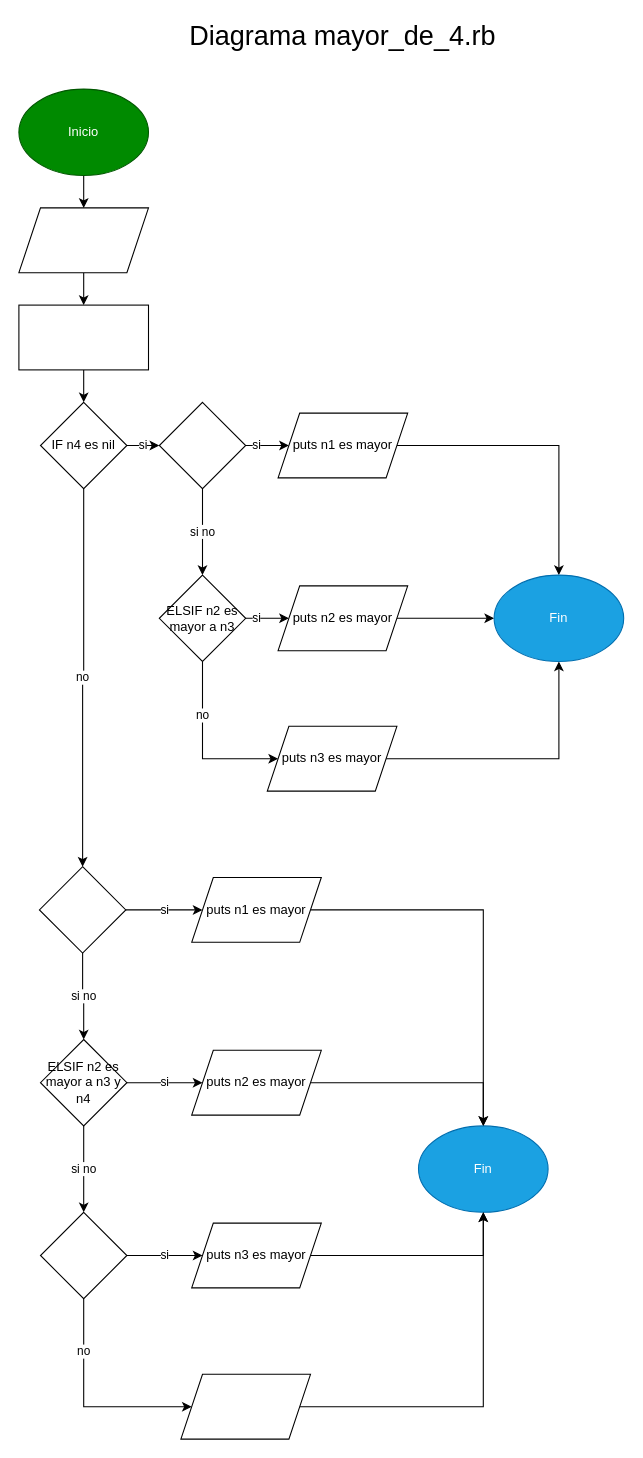
Image size: 643x1458. Some labels were removed from this diagram. Each missing label, with the box of its shape:
ELSIF n3 es mayor a n4: (39, 1211, 127, 1299)
Guardar valores en variables n1, n2, n3 y n4: (18, 304, 148, 370)
IF n1 es mayor a n2 y n3: (158, 401, 246, 489)
IF n1 es mayor a n2, n3 y n4: (38, 866, 126, 953)
Leer 4 números ingresador por usuario: (18, 207, 148, 273)
puts n4 es mayor: (180, 1373, 310, 1439)
